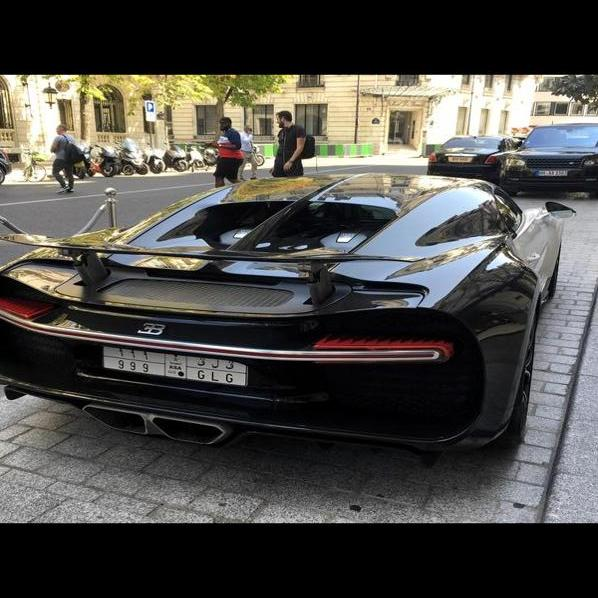numberplate: (100, 339, 254, 390)
